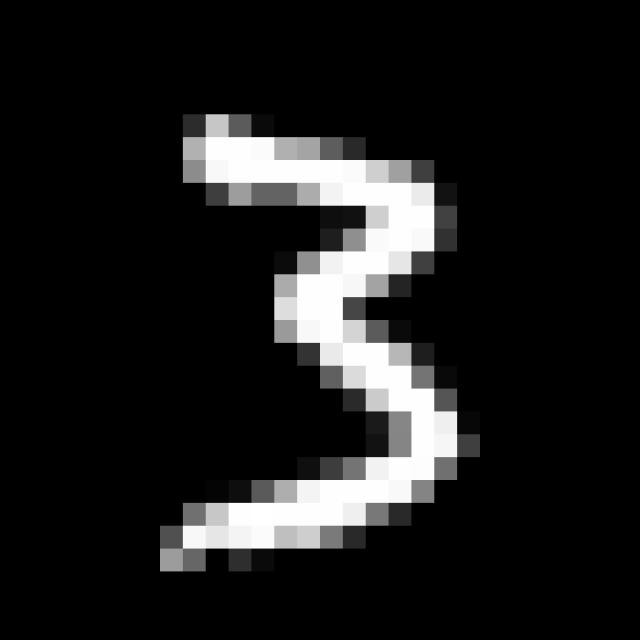three -3-: (149, 103, 485, 594)
